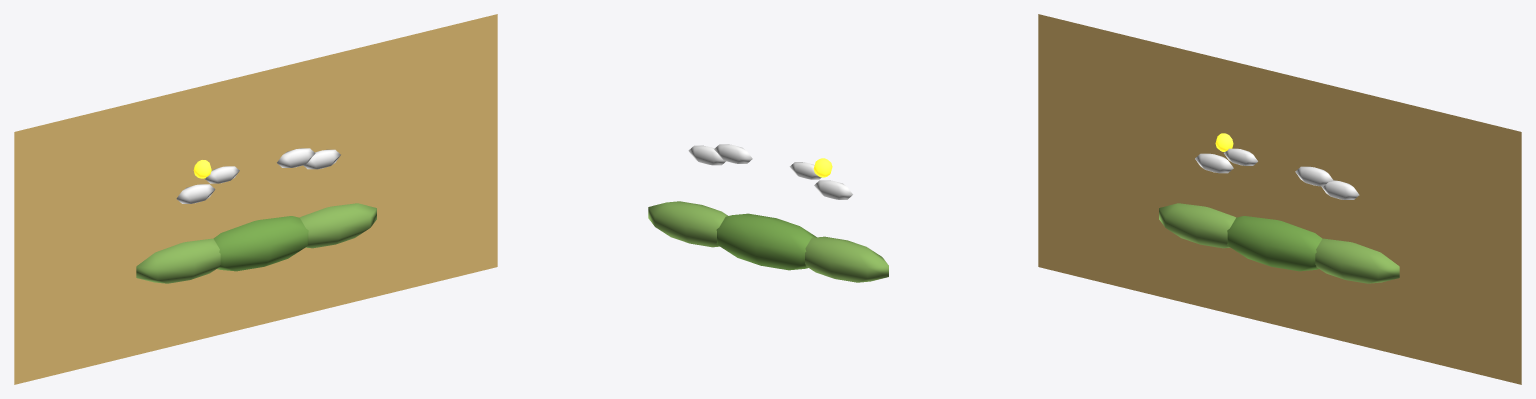
File: aetherPlateau.glb
3 views of the same model, side by side, from view 1: azimuth 30°, elevation 25°; view 2: azimuth 150°, elevation 25°; view 3: azimuth 330°, elevation 25° (orthographic).
Visible parts, largest first — view 1: background, object 3, object 2, object 4, object 5, object 8, object 6, object 7; view 2: object 3, object 2, object 4, object 5, object 8, object 6; view 3: background, object 3, object 4, object 2, object 5, object 8, object 6, object 7.
Part boxes in pixels (x1,y1,x2,y2): background: (14, 14, 497, 384); object 3: (213, 216, 308, 271); object 2: (136, 238, 220, 283); object 4: (300, 203, 376, 248); object 5: (176, 184, 215, 203); object 8: (277, 148, 315, 167); object 6: (303, 149, 340, 169); object 7: (205, 166, 239, 183); object 3: (716, 213, 816, 270); object 2: (805, 236, 888, 282); object 4: (648, 201, 727, 247); object 5: (814, 180, 852, 199); object 8: (714, 144, 752, 163); object 6: (688, 145, 725, 165); background: (1038, 14, 1521, 384); object 3: (1227, 216, 1322, 271); object 4: (1315, 238, 1399, 283); object 2: (1159, 203, 1235, 248); object 5: (1195, 153, 1233, 173); object 8: (1295, 166, 1333, 186); object 6: (1321, 180, 1359, 199); object 7: (1224, 148, 1257, 165).
Bounding box in the file's own units: 4000 × 2000 × 365.
